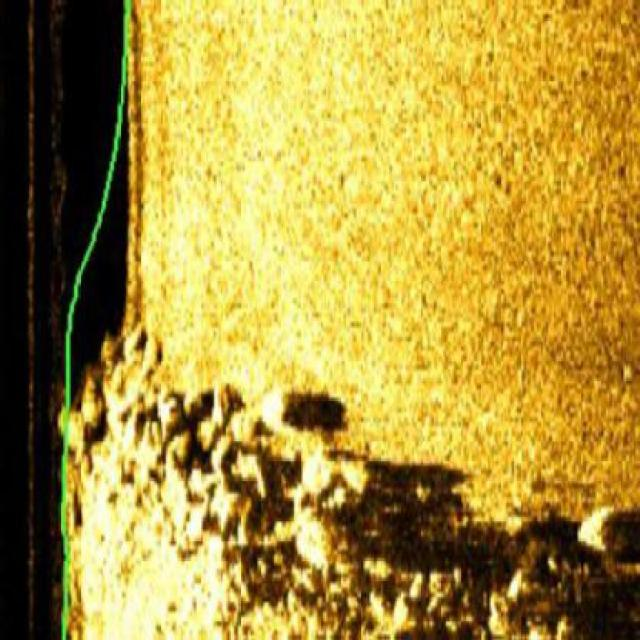bedrock group: (68, 328, 640, 640)
